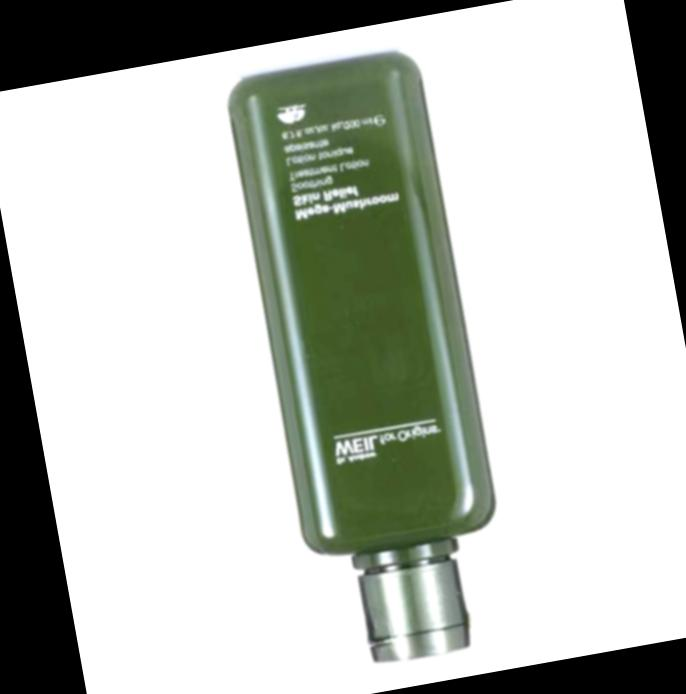cosmetic: (217, 42, 525, 681)
